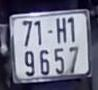1: (67, 16, 78, 42), (34, 20, 43, 46)
5: (53, 47, 65, 75)
6: (39, 49, 51, 76)
7: (22, 19, 33, 48), (68, 46, 79, 73)
9: (24, 50, 37, 78)
H: (55, 17, 68, 46)
